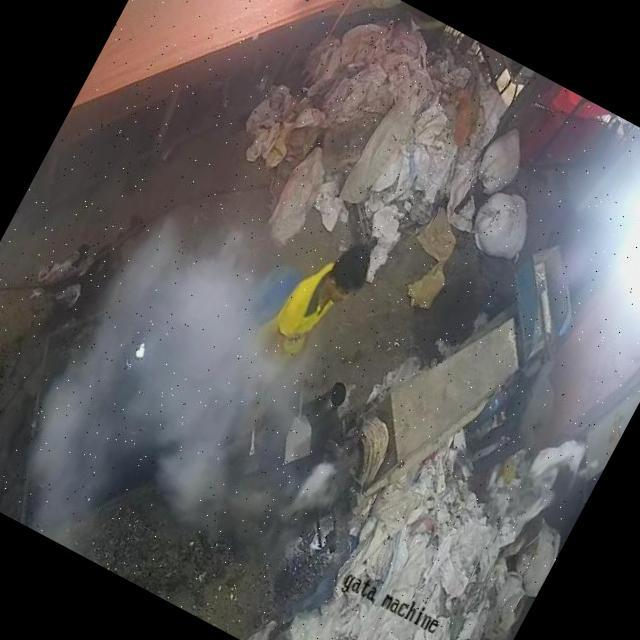person: (254, 230, 373, 384)
